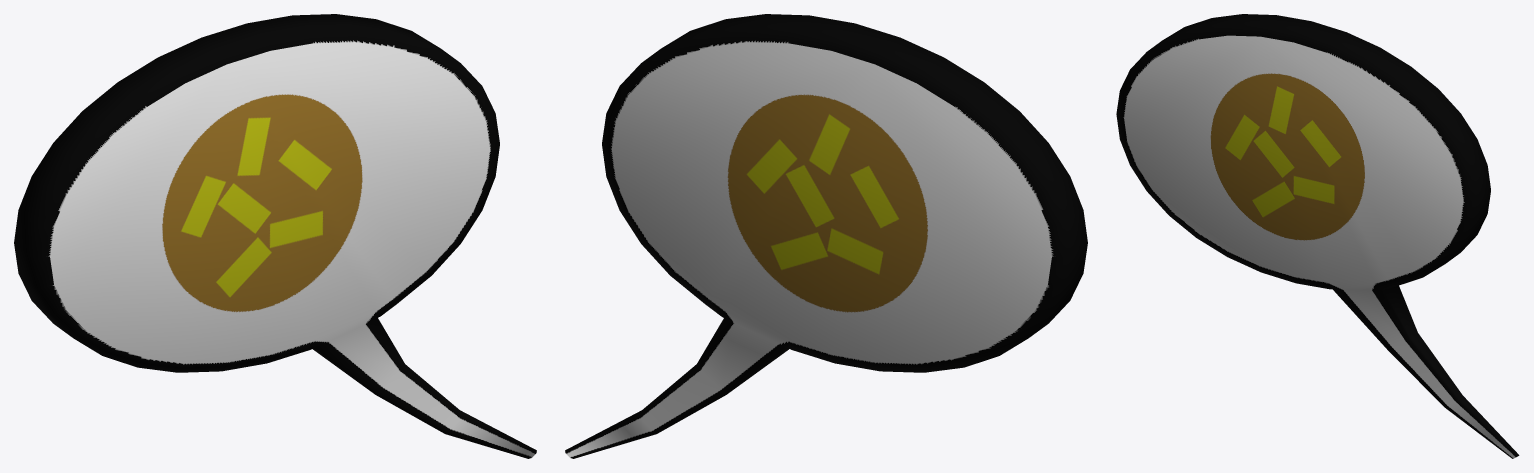
The model's file is HawaiianPizzaRequest.fbx.
3 renders of one model, left to right at view 1: azimuth 30°, elevation 25°; view 2: azimuth 150°, elevation 25°; view 3: azimuth 330°, elevation 25°, orthographic. The views are drawn at different scales.
Visible parts, largest first — view 1: HawaiianPizzaRequest; view 2: HawaiianPizzaRequest; view 3: HawaiianPizzaRequest.
Boxes of the visible parts, x1=… form: HawaiianPizzaRequest: x1=14, y1=14, x2=536, y2=458; HawaiianPizzaRequest: x1=565, y1=14, x2=1087, y2=458; HawaiianPizzaRequest: x1=1116, y1=14, x2=1519, y2=458.
Bounding box in the file's own units: 220 × 203 × 19.37.
